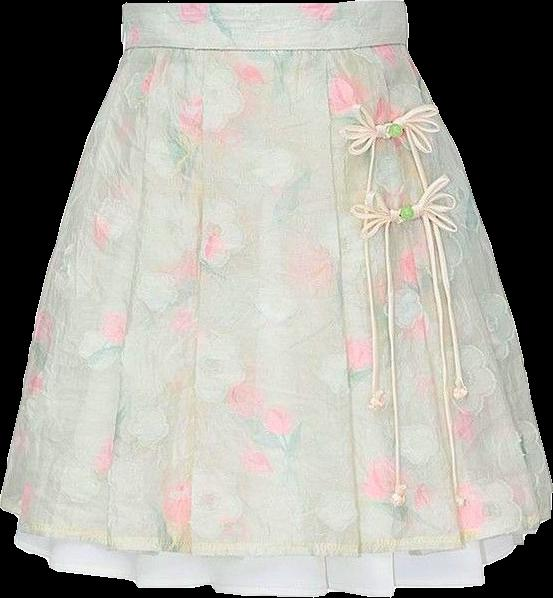Hemline: (9, 535, 533, 597), (0, 501, 552, 558)
Waistline: (121, 38, 408, 54), (119, 0, 407, 8)
